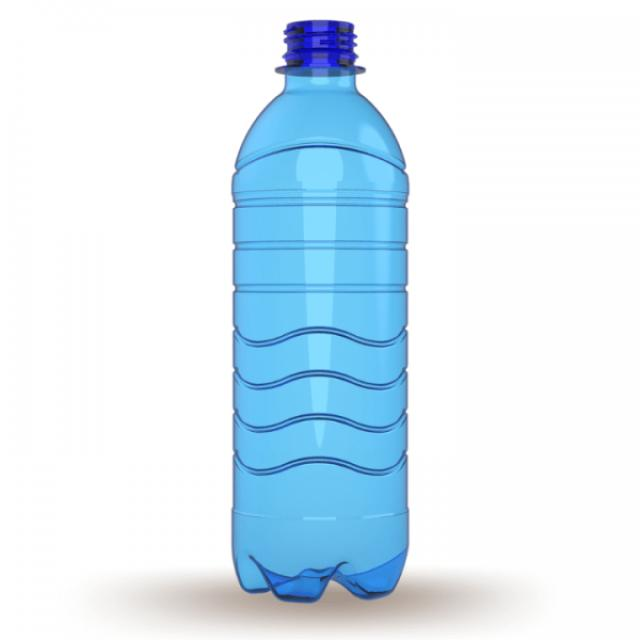bottom: (220, 523, 414, 611)
no_cap: (253, 14, 379, 91)
